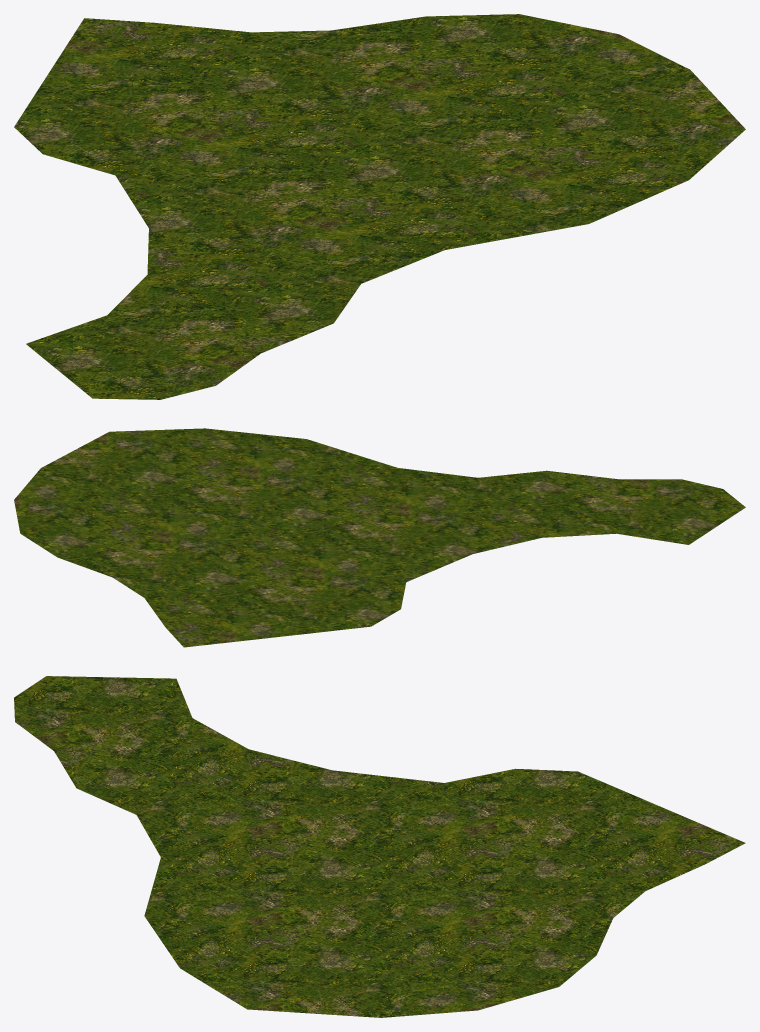
File: OVERHILL_A_01_GROUND_24.fbx
3 renders of one model, top to bottom at view 1: azimuth 30°, elevation 25°; view 2: azimuth 150°, elevation 25°; view 3: azimuth 270°, elevation 25°, orthographic. The views are drawn at different scales.
Visible parts, largest first — view 1: OVERHILL_A_01_GROUND_24; view 2: OVERHILL_A_01_GROUND_24; view 3: OVERHILL_A_01_GROUND_24.
Part boxes in pixels (x1,y1,x2,y2): OVERHILL_A_01_GROUND_24: (14, 14, 745, 399); OVERHILL_A_01_GROUND_24: (14, 428, 745, 647); OVERHILL_A_01_GROUND_24: (14, 676, 745, 1017).
Bounding box in the file's own units: 75283 × 0.0111 × 68115.
Materials: 1 (1 with a texture image).
